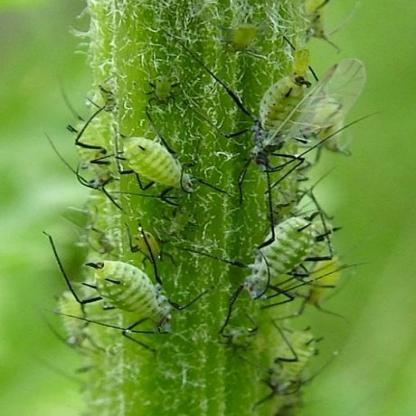aphid: (219, 61, 316, 186), (238, 180, 323, 312), (90, 245, 188, 344), (309, 53, 380, 184), (38, 276, 129, 365), (111, 119, 196, 210), (260, 315, 340, 409), (300, 232, 360, 330), (61, 104, 119, 200)
